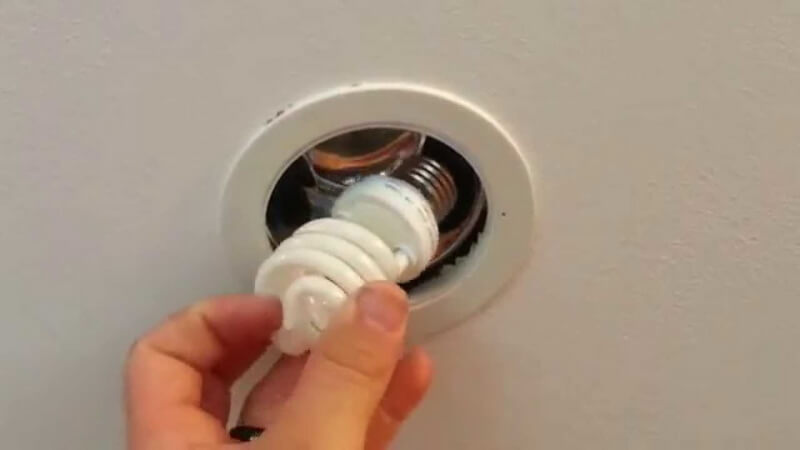Light bulb: (249, 151, 463, 363)
